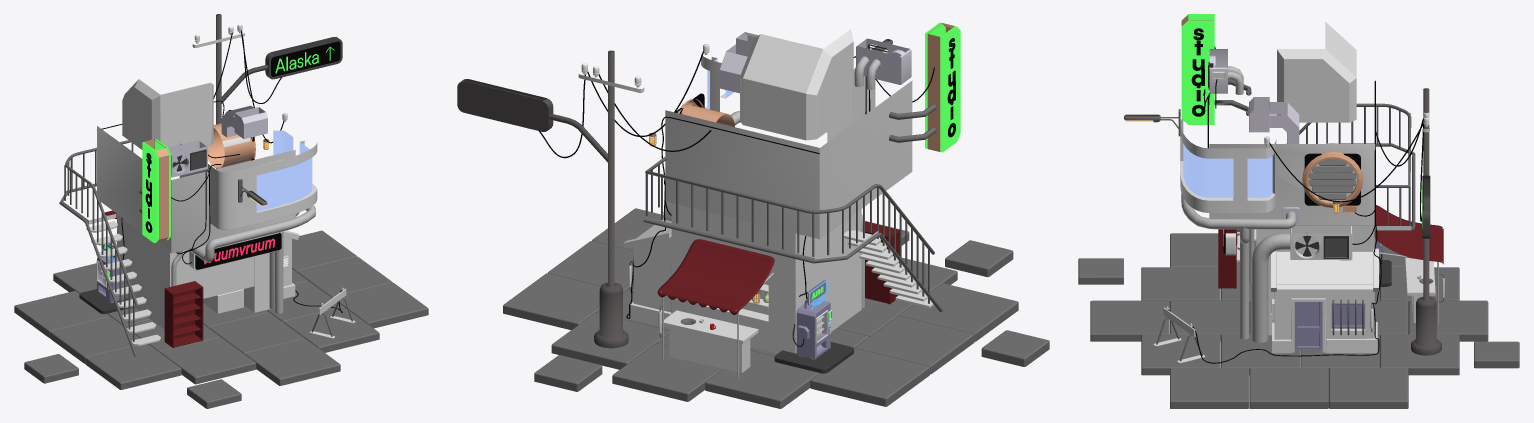
File: building-unwraping-optimized.glb
The picture shows the model from 3 angles, left to right: view 1: azimuth 30°, elevation 25°; view 2: azimuth 150°, elevation 25°; view 3: azimuth 270°, elevation 25°; orthographic projection. The views are drawn at different scales.
Parts seen in each view (by area): view 1: Plane.058, Plane.002, Plane.019, Plane, Cube.001, Cube.008, Plane.014, Plane.044, Plane.020, Vert.002, Cube.006, Cube.007 (+20 smaller); view 2: Plane.058, Plane.002, Plane, Plane.019, Plane.059, Cube.004, Circle.011, Plane.043, Plane.004, Plane.020, Plane.038, Cube.006 (+16 smaller); view 3: Plane.058, Plane.019, Plane.002, Cube.001, Plane.004, Plane.027, Cube.008, Cube.003, Circle.011, Plane.059, Vert, Plane (+24 smaller).
Boxes of the visible parts, left/top/right/bottom form: Plane.058: left=14, top=230, right=428, bottom=408; Plane.002: left=97, top=126, right=295, bottom=253; Plane.019: left=122, top=79, right=213, bottom=149; Plane: left=117, top=214, right=269, bottom=329; Cube.001: left=179, top=130, right=317, bottom=229; Cube.008: left=256, top=130, right=312, bottom=211; Plane.014: left=164, top=281, right=203, bottom=347; Plane.044: left=187, top=256, right=254, bottom=298; Plane.020: left=86, top=221, right=160, bottom=345; Vert.002: left=188, top=205, right=315, bottom=262; Cube.006: left=142, top=142, right=158, bottom=243; Cube.007: left=271, top=41, right=340, bottom=76; Plane.058: left=503, top=208, right=1049, bottom=408; Plane.002: left=665, top=80, right=912, bottom=239; Plane: left=671, top=203, right=861, bottom=353; Plane.019: left=740, top=29, right=853, bottom=140; Plane.059: left=657, top=239, right=774, bottom=314; Cube.004: left=457, top=79, right=553, bottom=131; Circle.011: left=594, top=50, right=628, bottom=348; Plane.043: left=669, top=327, right=750, bottom=372; Plane.004: left=633, top=237, right=671, bottom=312; Plane.020: left=844, top=230, right=933, bottom=308; Plane.038: left=645, top=165, right=871, bottom=256; Cube.006: left=940, top=26, right=960, bottom=152; Plane.058: left=1078, top=229, right=1519, bottom=408; Plane.019: left=1277, top=22, right=1356, bottom=122; Plane.002: left=1209, top=144, right=1375, bottom=225; Cube.001: left=1180, top=117, right=1276, bottom=212; Plane.004: left=1274, top=284, right=1374, bottom=352; Plane.027: left=1277, top=251, right=1372, bottom=289; Cube.008: left=1183, top=144, right=1272, bottom=197; Cube.003: left=1181, top=20, right=1214, bottom=124; Circle.011: left=1411, top=88, right=1441, bottom=355; Plane.059: left=1374, top=205, right=1443, bottom=264; Vert: left=1252, top=233, right=1290, bottom=342; Plane: left=1256, top=226, right=1374, bottom=335.
Size of the model in its own units: 36.28 by 21.5 by 32.15.
